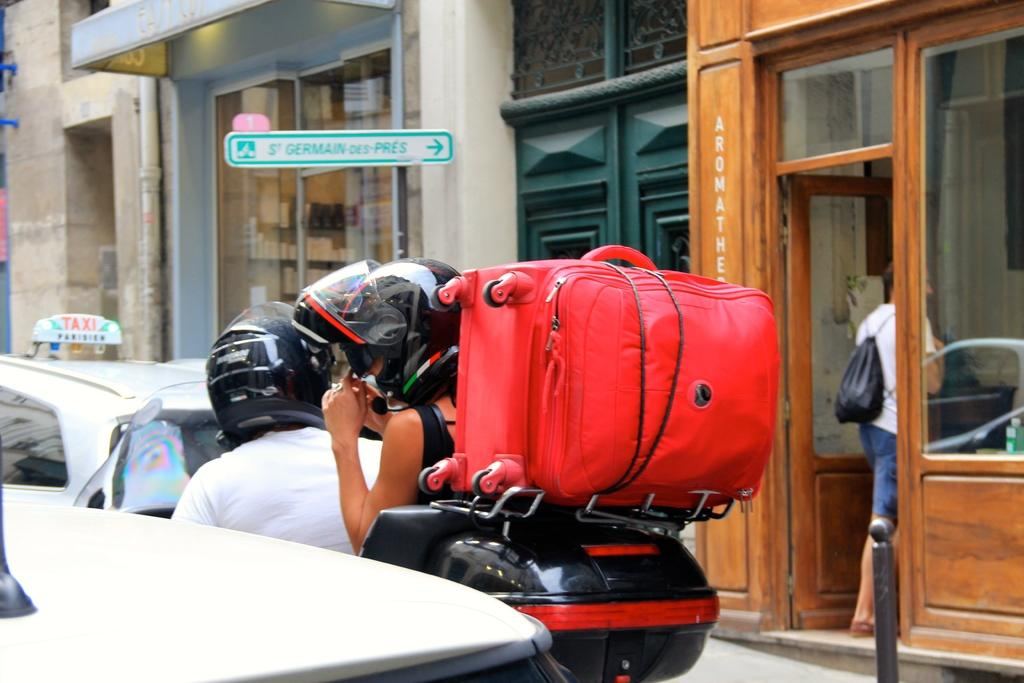Luggage-and-bags: (440, 242, 774, 536), (833, 309, 897, 425)
